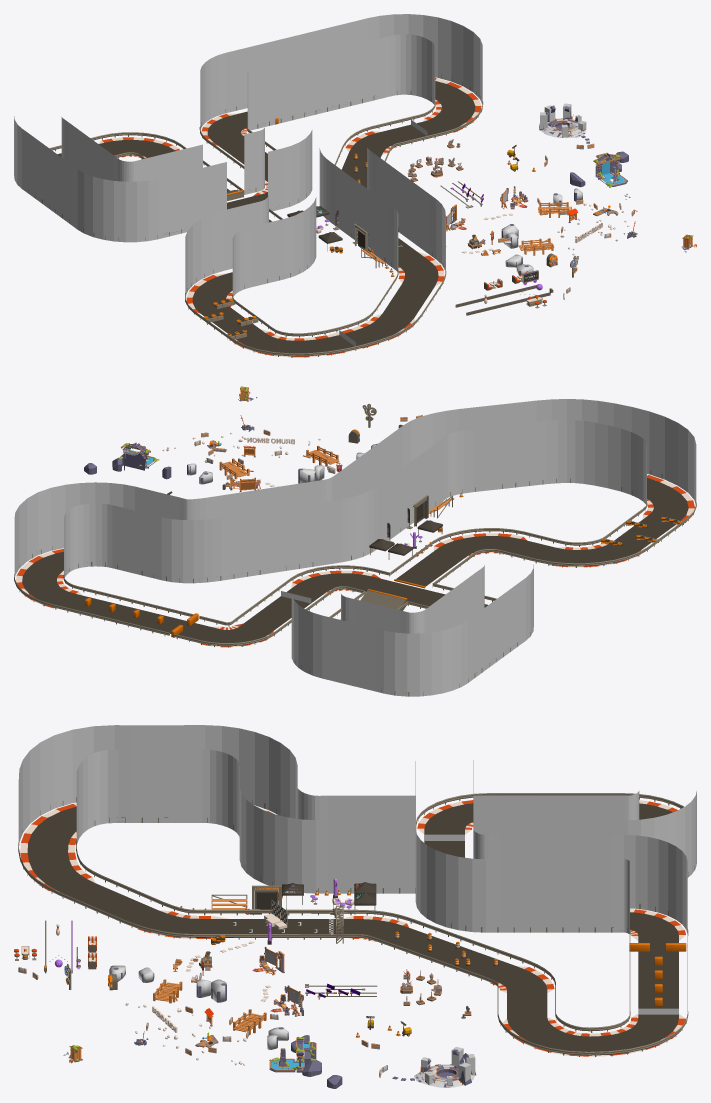
Rendered from areas.glb.
The picture shows the model from 3 angles, top to bottom: view 1: azimuth 30°, elevation 25°; view 2: azimuth 150°, elevation 25°; view 3: azimuth 270°, elevation 25°; orthographic projection. The views are drawn at different scales.
Parts seen in each view (by area): view 1: trimesh, refCircuitRoadPhysicalFixed.001, refCircuitRailsPhysicalFixed, curveBumpers, refBowlingBumpersPhysicalKinematicPositionBased; view 2: trimesh, refCircuitRoadPhysicalFixed.001, refCircuitRailsPhysicalFixed, curveBumpers, jump; view 3: trimesh, refCircuitRoadPhysicalFixed.001, refCircuitRailsPhysicalFixed, curveBumpers.
Part boxes in pixels (x1,y1,x2,y2): trimesh: (14,14,482,297); refCircuitRoadPhysicalFixed.001: (57,81,475,353); refCircuitRailsPhysicalFixed: (28,74,483,357); curveBumpers: (98,78,481,357); refBowlingBumpersPhysicalKinematicPositionBased: (455,285,550,315); trimesh: (14,399,696,696); refCircuitRoadPhysicalFixed.001: (22,478,688,642); refCircuitRailsPhysicalFixed: (14,470,696,696); curveBumpers: (16,474,694,647); jump: (360,590,407,610); trimesh: (18,725,696,1012); refCircuitRoadPhysicalFixed.001: (27,803,678,1051); refCircuitRailsPhysicalFixed: (18,793,694,1056); curveBumpers: (20,800,685,1056).
Bounding box in the file's own units: 169 × 22.55 × 169.
Materials: 46 (17 with a texture image).
